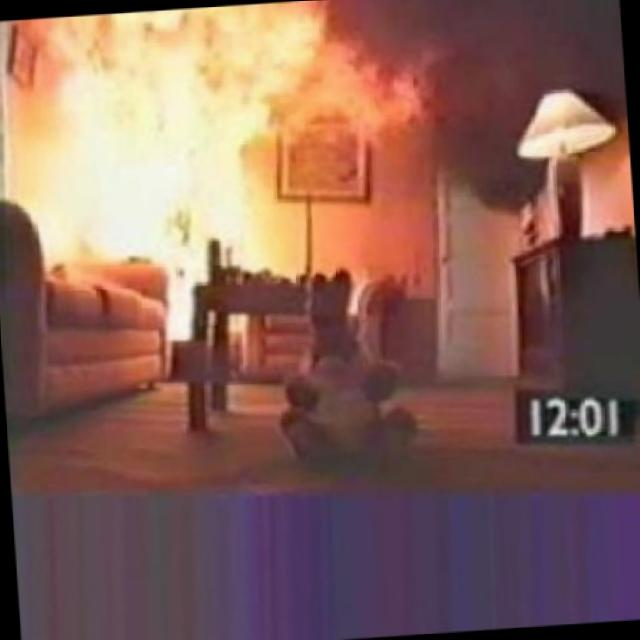fire: (0, 0, 381, 367)
